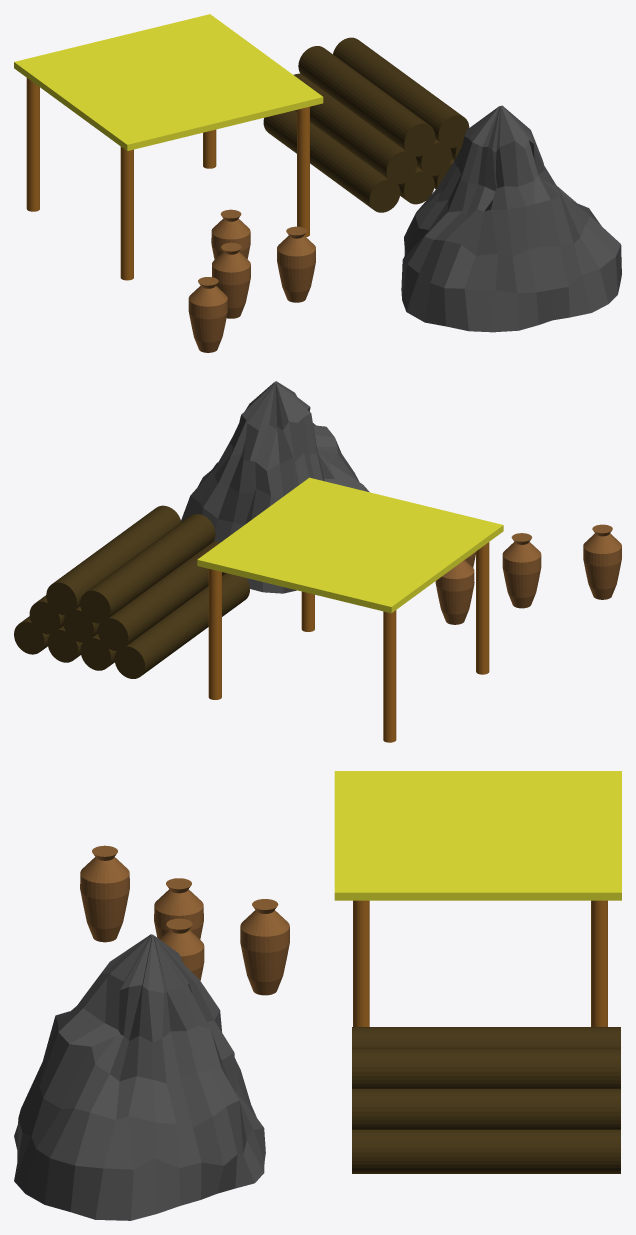
File: Stockpile.fbx
3 views of the same model, one above another, from view 1: azimuth 30°, elevation 25°; view 2: azimuth 150°, elevation 25°; view 3: azimuth 270°, elevation 25° (orthographic). The views are drawn at different scales.
Visible parts, largest first — view 1: Stones, Roof, Wood, Pottery, Struts; view 2: Roof, Wood, Stones, Pottery, Struts; view 3: Stones, Wood, Roof, Pottery, Struts.
Part boxes in pixels (<box>): Stones: <box>401,105,621,332</box>; Roof: <box>14,14,323,150</box>; Wood: <box>263,37,469,212</box>; Pottery: <box>188,209,315,352</box>; Struts: <box>26,78,309,280</box>; Roof: <box>197,477,503,613</box>; Wood: <box>14,505,249,678</box>; Stones: <box>181,381,369,593</box>; Pottery: <box>435,524,621,624</box>; Struts: <box>208,542,489,742</box>; Stones: <box>14,934,265,1220</box>; Wood: <box>352,1027,620,1173</box>; Roof: <box>334,771,621,900</box>; Pottery: <box>80,845,289,995</box>; Struts: <box>353,900,607,1026</box>.
Size of the model in its own units: 209 by 81.86 by 201.
